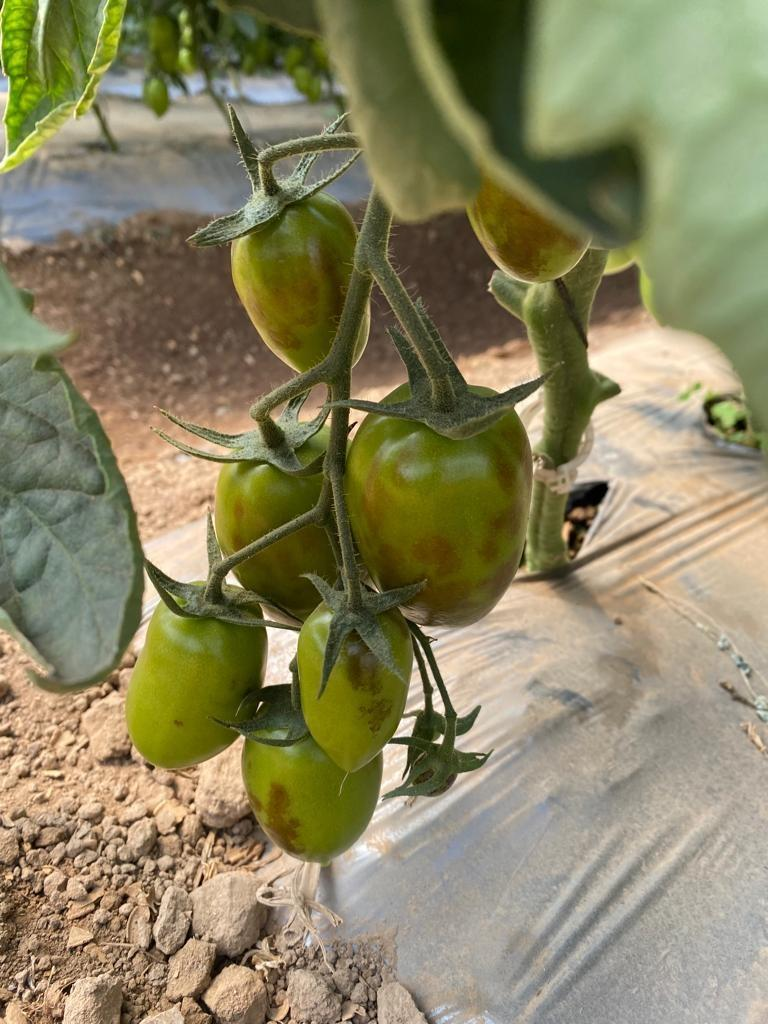Rugose leaf: (0, 0, 125, 171)
Rugose tomato: (344, 410, 532, 626), (123, 599, 265, 771), (229, 196, 357, 377), (296, 602, 412, 771), (242, 738, 382, 863), (466, 178, 588, 282), (232, 526, 338, 618), (216, 464, 322, 553)
